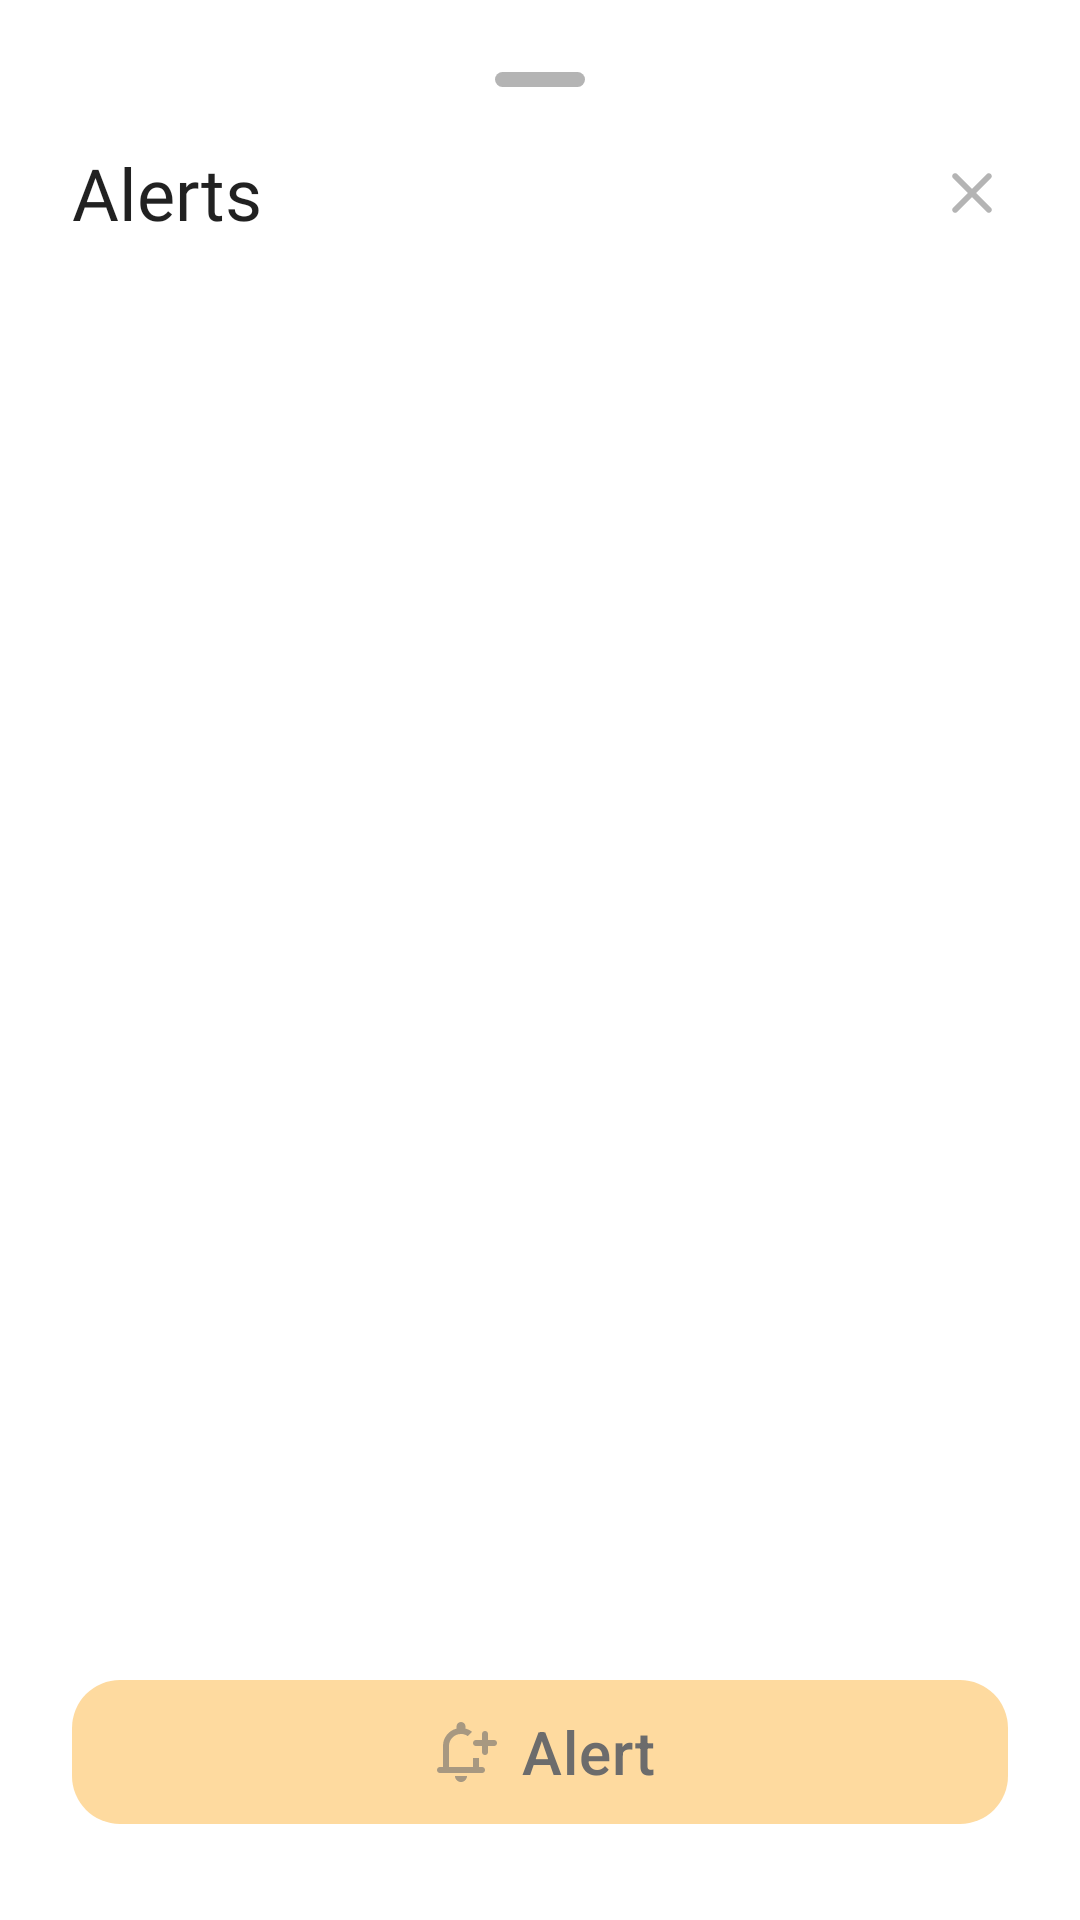

Named icons in this screenshot (1080w x 1920h) and their centers, point (x, y):
Close: point (972, 193)
